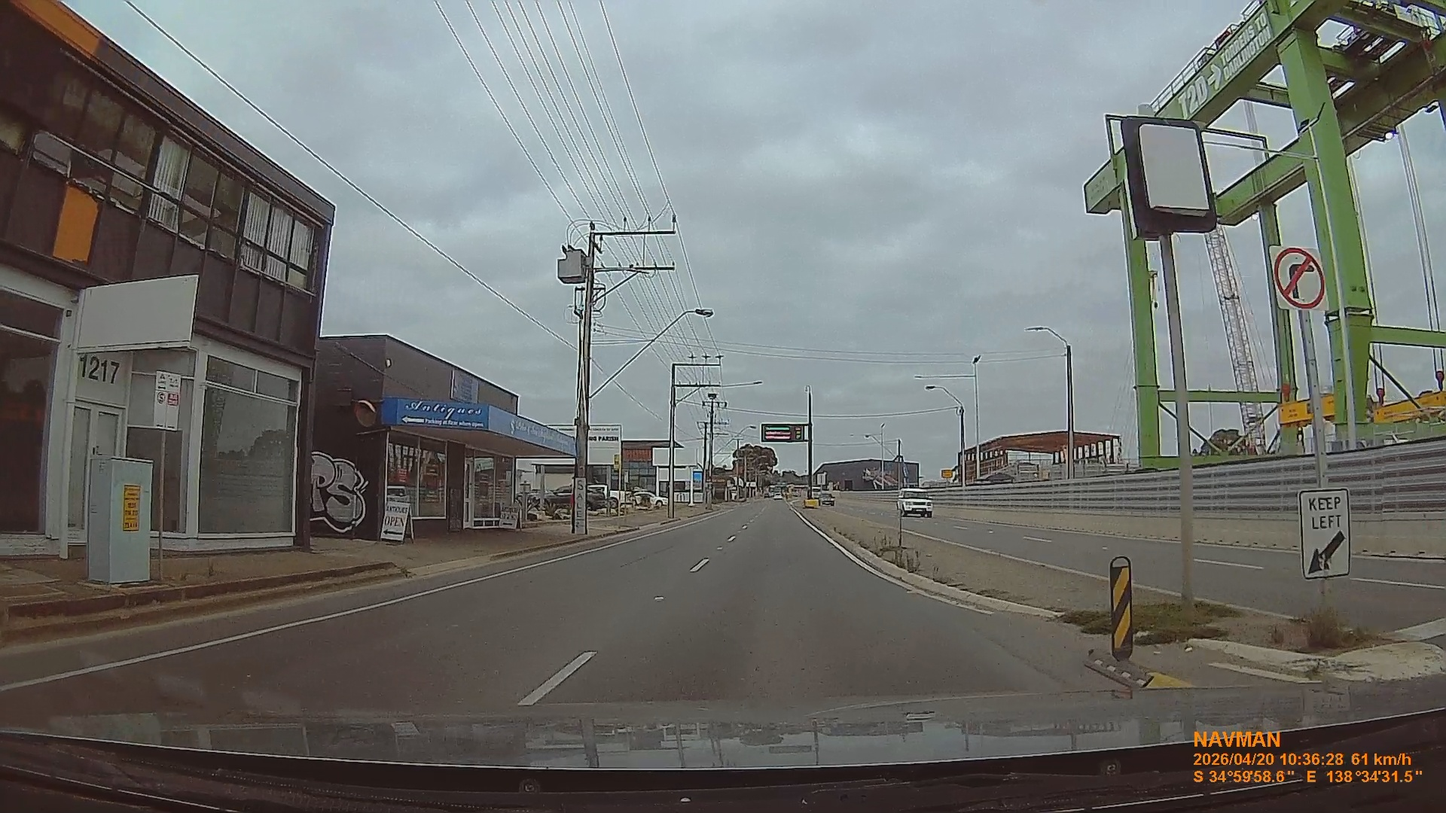fences: (928, 469, 1178, 516)
